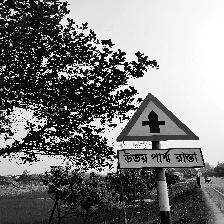Crossroad: (110, 84, 210, 180)
